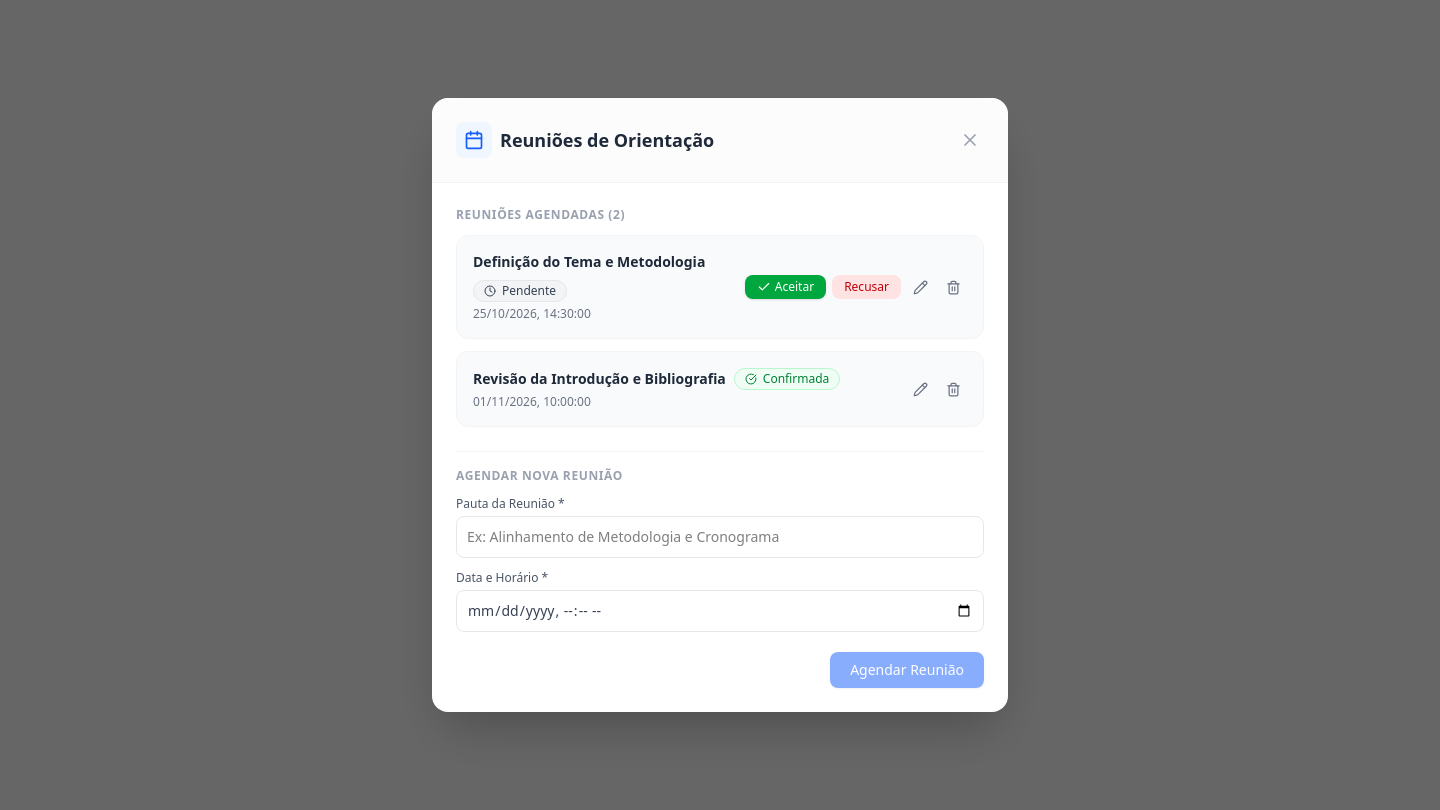
MeetingsModal - Complete Meeting CRUD › cancels edit mode when cancel button is clicked
The image size is (1440, 810).
Step 1. Click the button named "Editar reunião Definição do Tema e Metodologia" → [920, 287], box x1=907 y1=274 x2=934 y2=300
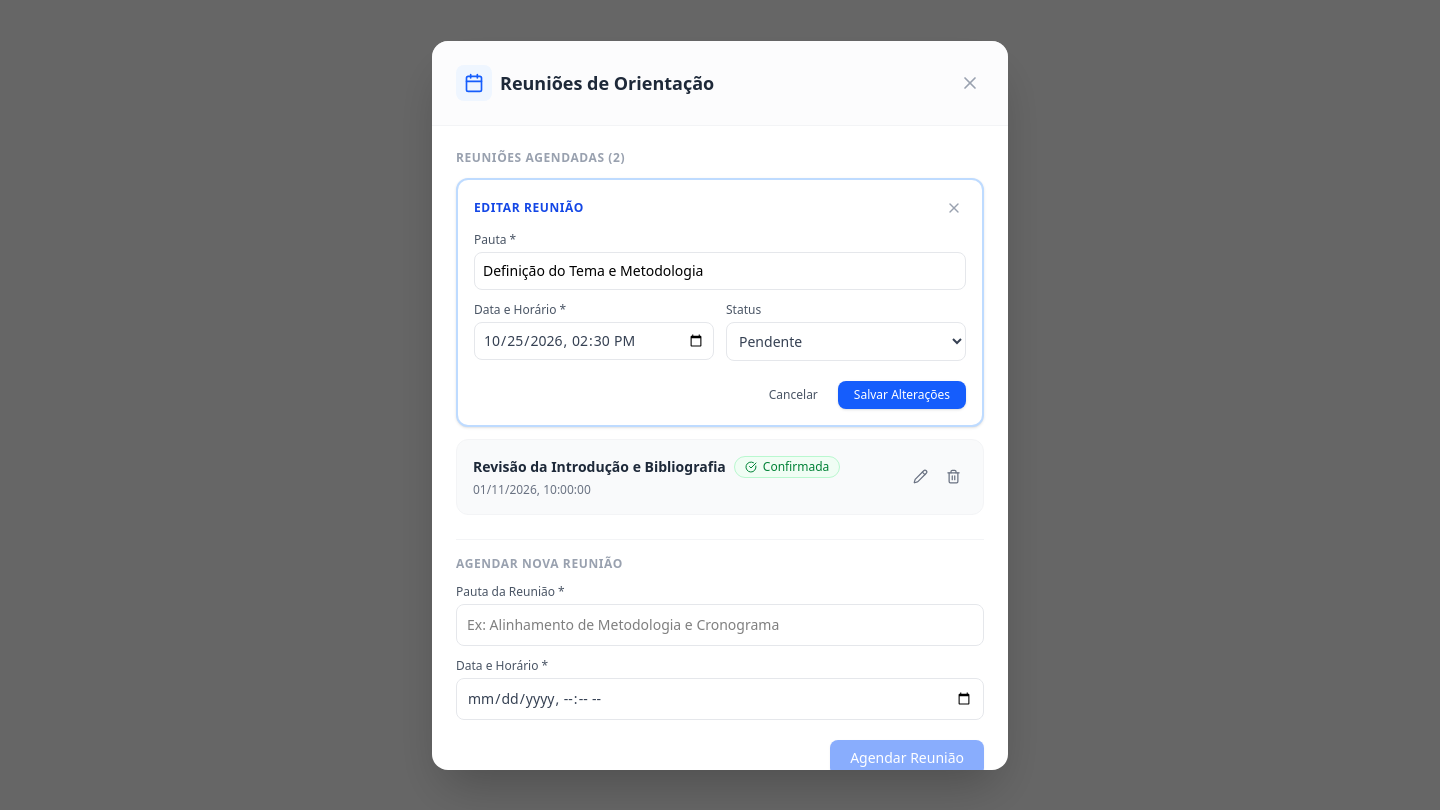
Now the element with test id "meeting-edit-card-1" is shown, box x1=456 y1=178 x2=984 y2=426
Step 2. Click the button "Cancelar" → [793, 394], box x1=757 y1=380 x2=830 y2=408
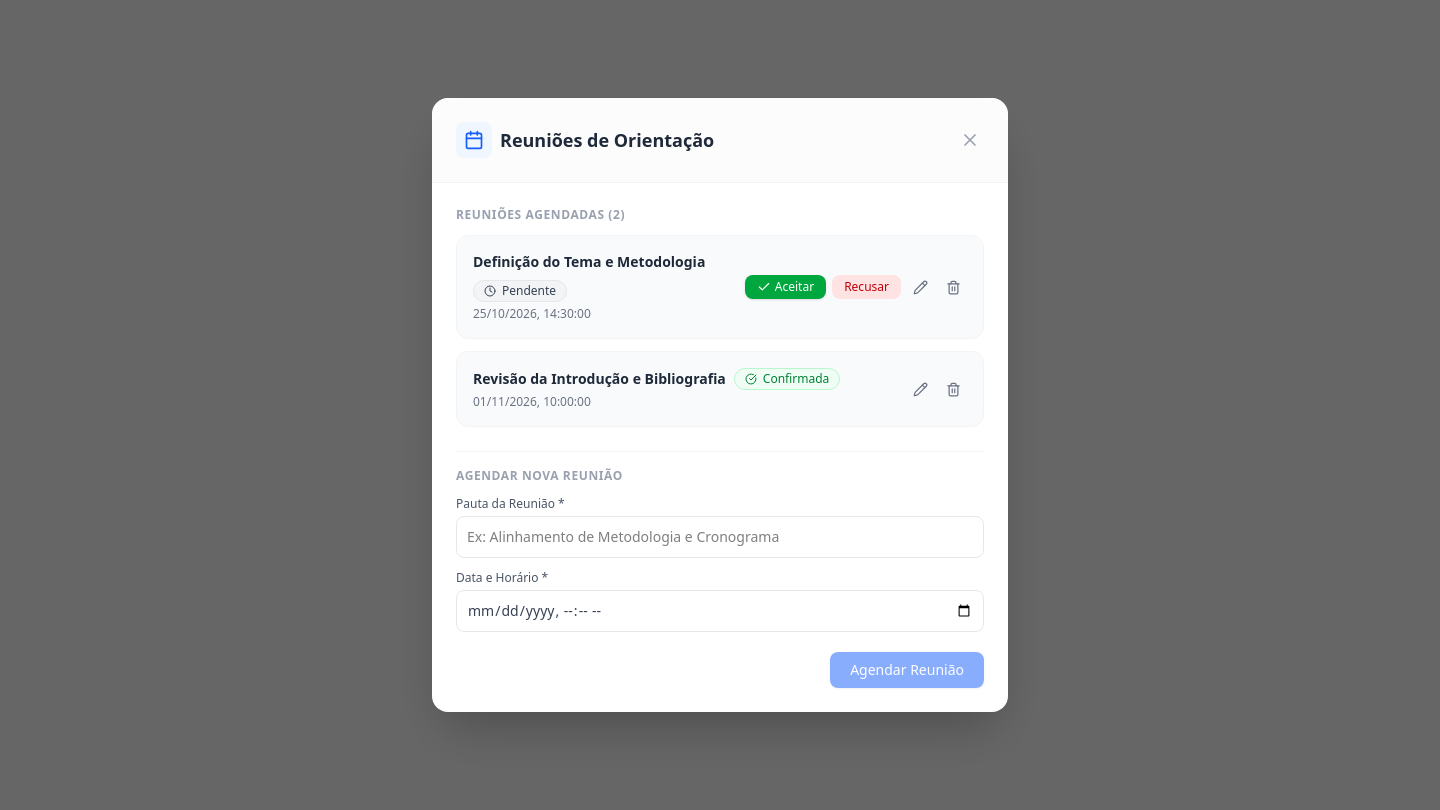
Now the element with test id "meeting-item-1" is shown, box x1=456 y1=235 x2=984 y2=339
